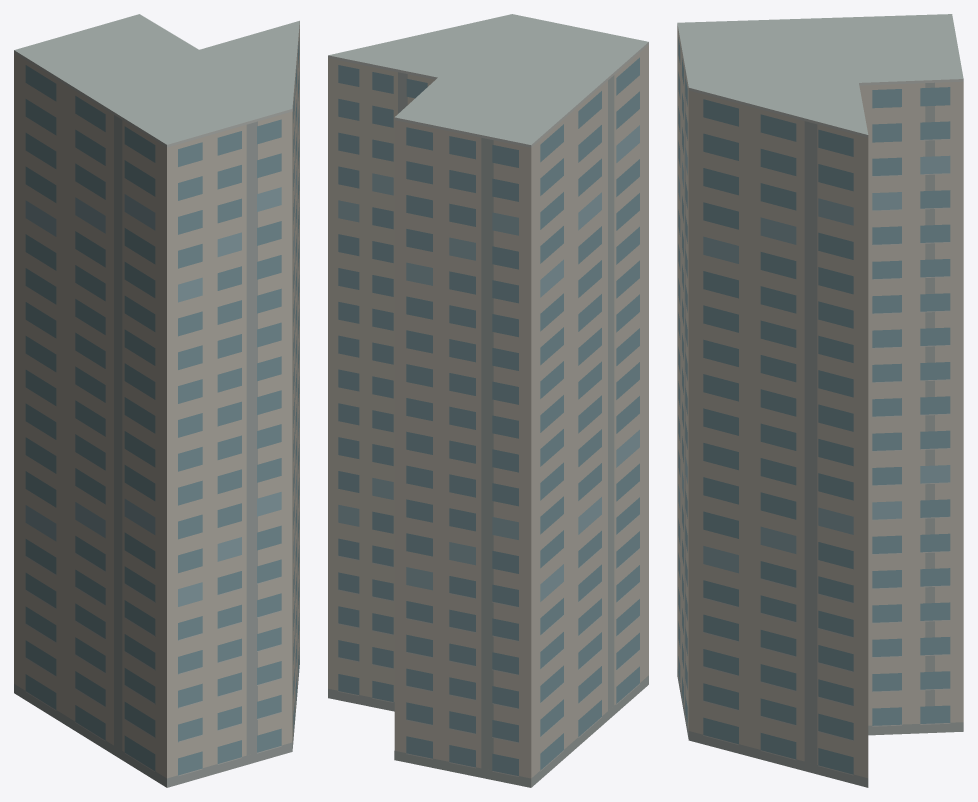
The model's file is residential-fd879147-6a85-4f9f-9ad7-934a8ee2f8da.glb.
3 views of the same model, side by side, from view 1: azimuth 30°, elevation 25°; view 2: azimuth 150°, elevation 25°; view 3: azimuth 270°, elevation 25° (orthographic).
Parts seen in each view (by area): view 1: residential-fd879147-6a85-4f9f-9ad7-934a8ee2f8da.tmp; view 2: residential-fd879147-6a85-4f9f-9ad7-934a8ee2f8da.tmp; view 3: residential-fd879147-6a85-4f9f-9ad7-934a8ee2f8da.tmp.
Part boxes in pixels (bbox=[...]): residential-fd879147-6a85-4f9f-9ad7-934a8ee2f8da.tmp: bbox=[14, 14, 299, 787]; residential-fd879147-6a85-4f9f-9ad7-934a8ee2f8da.tmp: bbox=[328, 14, 648, 787]; residential-fd879147-6a85-4f9f-9ad7-934a8ee2f8da.tmp: bbox=[677, 14, 963, 787].
Size of the model in its own units: 23.09 by 58 by 23.07.
